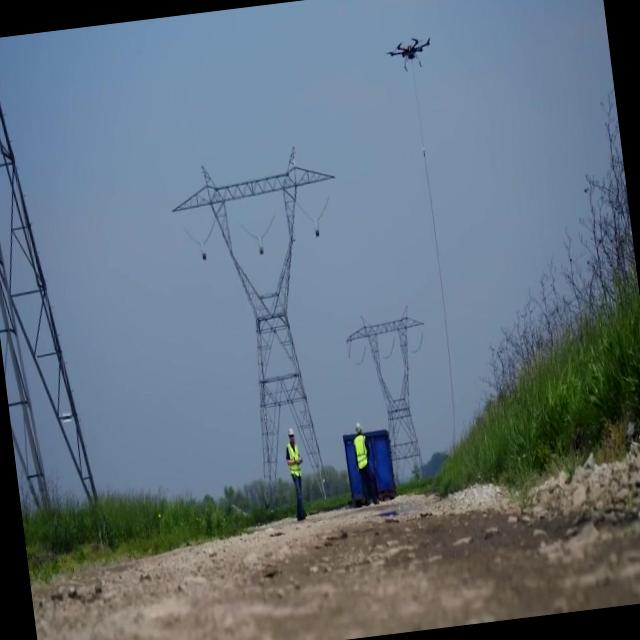drone: (382, 32, 436, 74)
